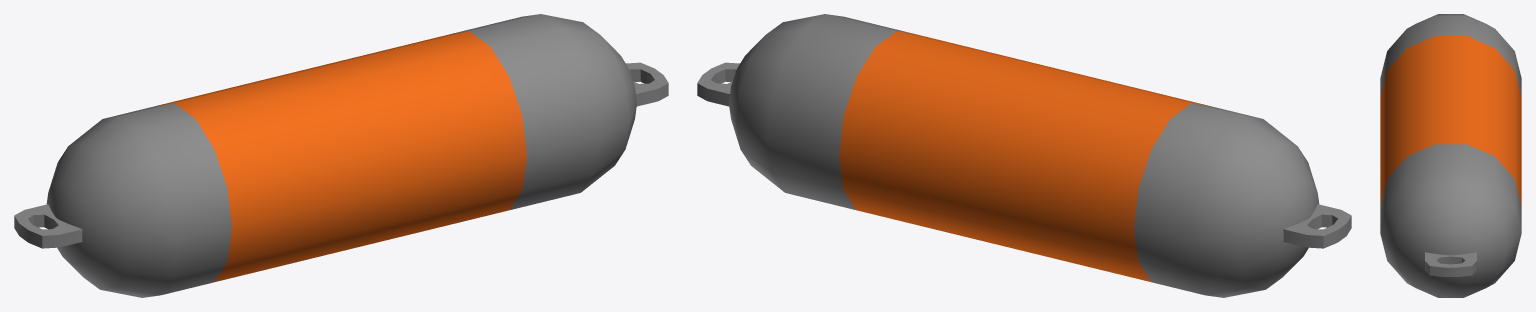
Rendered from prop_26.FBX.
3 views of the same model, side by side, from view 1: azimuth 30°, elevation 25°; view 2: azimuth 150°, elevation 25°; view 3: azimuth 270°, elevation 25° (orthographic). The views are drawn at different scales.
Visible parts, largest first — view 1: prop_26; view 2: prop_26; view 3: prop_26.
Part boxes in pixels (x1,y1,x2,y2): prop_26: [14, 14, 668, 297]; prop_26: [697, 14, 1351, 297]; prop_26: [1380, 14, 1521, 297].
Size of the model in its own units: 42.42 by 10.61 by 10.88.
